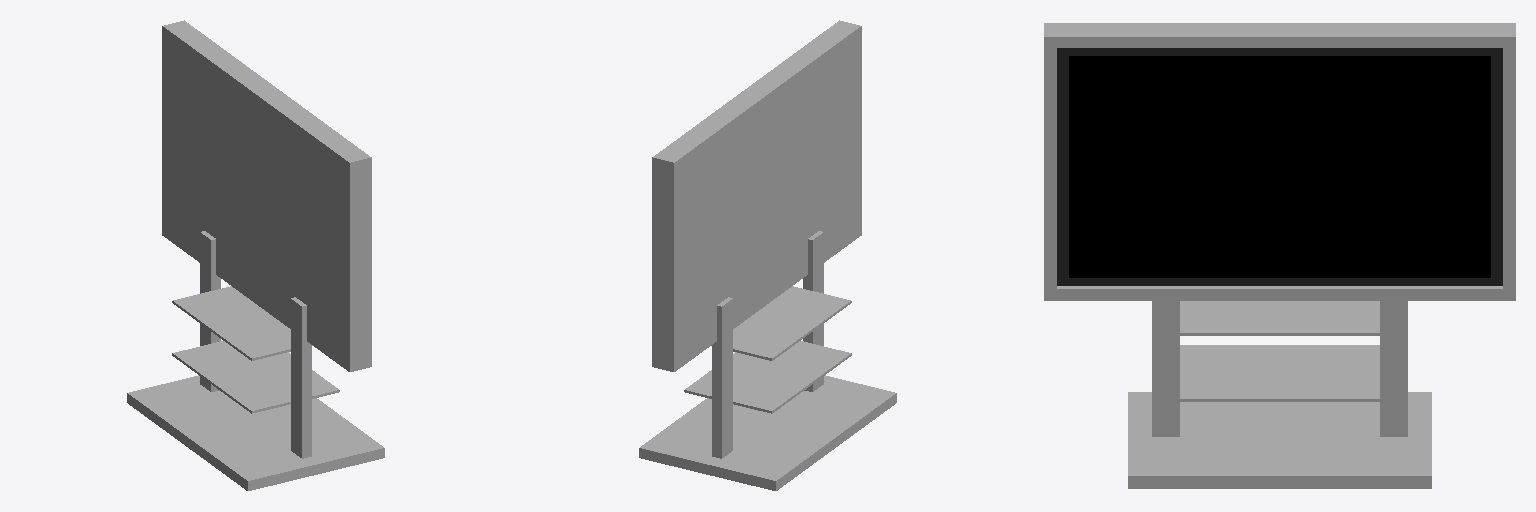
URDF robot description (room73b2-sharp-52-aquostv):
<?xml version="1.0"?>
<robot name="room73b2-sharp-52-aquostv"
       xmlns:xi="http://www.w3.org/2001/XInclude"
       xmlns:gazebo="http://playerstage.sourceforge.net/gazebo/xmlschema/#gz"
       xmlns:model="http://playerstage.sourceforge.net/gazebo/xmlschema/#model"
       xmlns:sensor="http://playerstage.sourceforge.net/gazebo/xmlschema/#sensor"
       xmlns:body="http://playerstage.sourceforge.net/gazebo/xmlschema/#body"
       xmlns:geom="http://playerstage.sourceforge.net/gazebo/xmlschema/#geom"
       xmlns:joint="http://playerstage.sourceforge.net/gazebo/xmlschema/#joint"
       xmlns:interface="http://playerstage.sourceforge.net/gazebo/xmlschema/#interface"
       xmlns:rendering="http://playerstage.sourceforge.net/gazebo/xmlschema/#rendering"
       xmlns:renderable="http://playerstage.sourceforge.net/gazebo/xmlschema/#renderable"
       xmlns:controller="http://playerstage.sourceforge.net/gazebo/xmlschema/#controller"
       xmlns:physics="http://playerstage.sourceforge.net/gazebo/xmlschema/#physics">
  <gazebo>
    <static>false</static>
  </gazebo>
  <link name="nil_link">
    <visual>
      <origin xyz="0 0 0" rpy="0 -0 0"/>
      <geometry>
        <mesh filename="model://room73b2-sharp-52-aquostv/meshes/nil_link_mesh.dae" scale="1 1 1" />
      </geometry>
    </visual>
    <collision>
      <origin xyz="0 0 0" rpy="0 -0 0"/>
      <geometry>
        <mesh filename="model://room73b2-sharp-52-aquostv/meshes/nil_link_mesh.dae" scale="1 1 1" />
      </geometry>
    </collision>
    <inertial>
      <mass value="0.001" />
      <origin xyz="0 0 0" rpy="0 -0 0"/>
      <inertia ixx="1e-09" ixy="0" ixz="0" iyy="1e-09" iyz="0" izz="1e-09"/>
    </inertial>
  </link>
  <gazebo reference="nil_link">
    <mu1>0.9</mu1>
    <mu2>0.9</mu2>
  </gazebo>
</robot>

--- Render facts (derived) ---
3 views of the same robot in one strip: view 1: azimuth 30°, elevation 25°; view 2: azimuth 150°, elevation 25°; view 3: azimuth 270°, elevation 25° (orthographic).
Robot: room73b2-sharp-52-aquostv — 1 links, 0 joints (none); root link nil_link; default pose: every joint at zero.
Links seen in each view (by area): view 1: nil_link; view 2: nil_link; view 3: nil_link.
Link boxes in pixels (x1=…): nil_link: x1=127, y1=20, x2=384, y2=490; nil_link: x1=639, y1=20, x2=896, y2=490; nil_link: x1=1044, y1=23, x2=1515, y2=488.
Size in the robot's own frame: 0.558 by 1.32 by 1.31 metres.
1 mesh visuals loaded from 1 distinct referenced files (1 Collada DAE).
